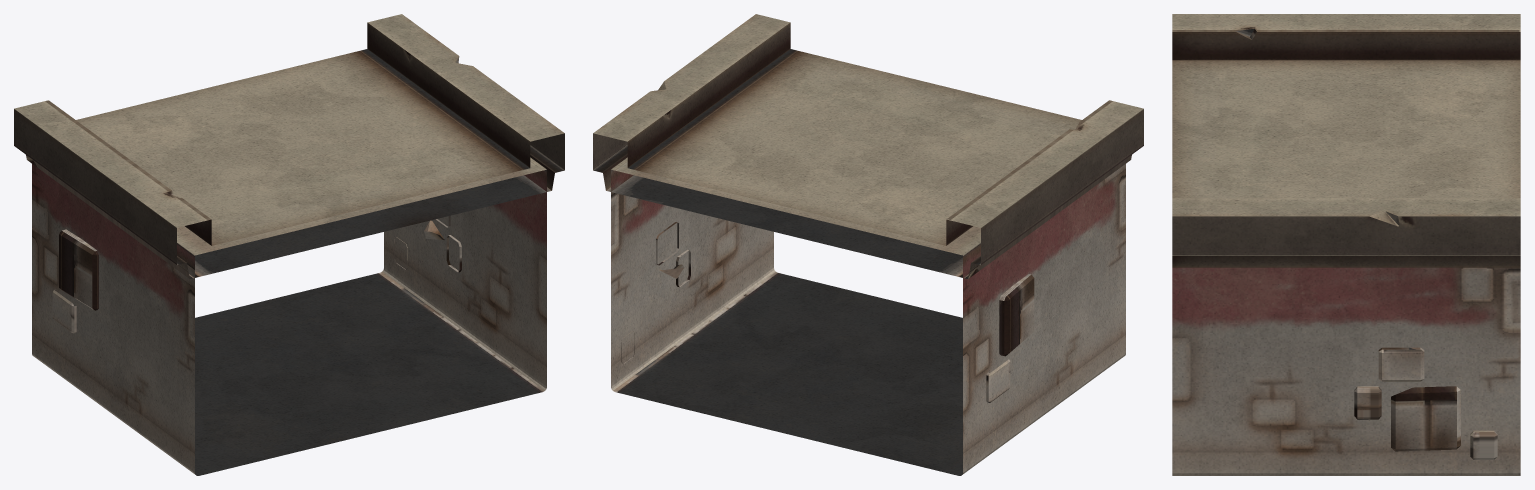
File: BaseUpperMiddle.dae
3 renders of one model, left to right at view 1: azimuth 30°, elevation 25°; view 2: azimuth 150°, elevation 25°; view 3: azimuth 270°, elevation 25°, orthographic. The views are drawn at different scales.
Visible parts, largest first — view 1: Cube_050; view 2: Cube_050; view 3: Cube_050.
Part boxes in pixels (box(x1,y1,x2,y2)): Cube_050: box(14, 14, 564, 475); Cube_050: box(593, 14, 1143, 475); Cube_050: box(1172, 14, 1520, 475).
Bounding box in the file's own units: 4.57 × 3.33 × 2.85.
1 material, 1 textured.
